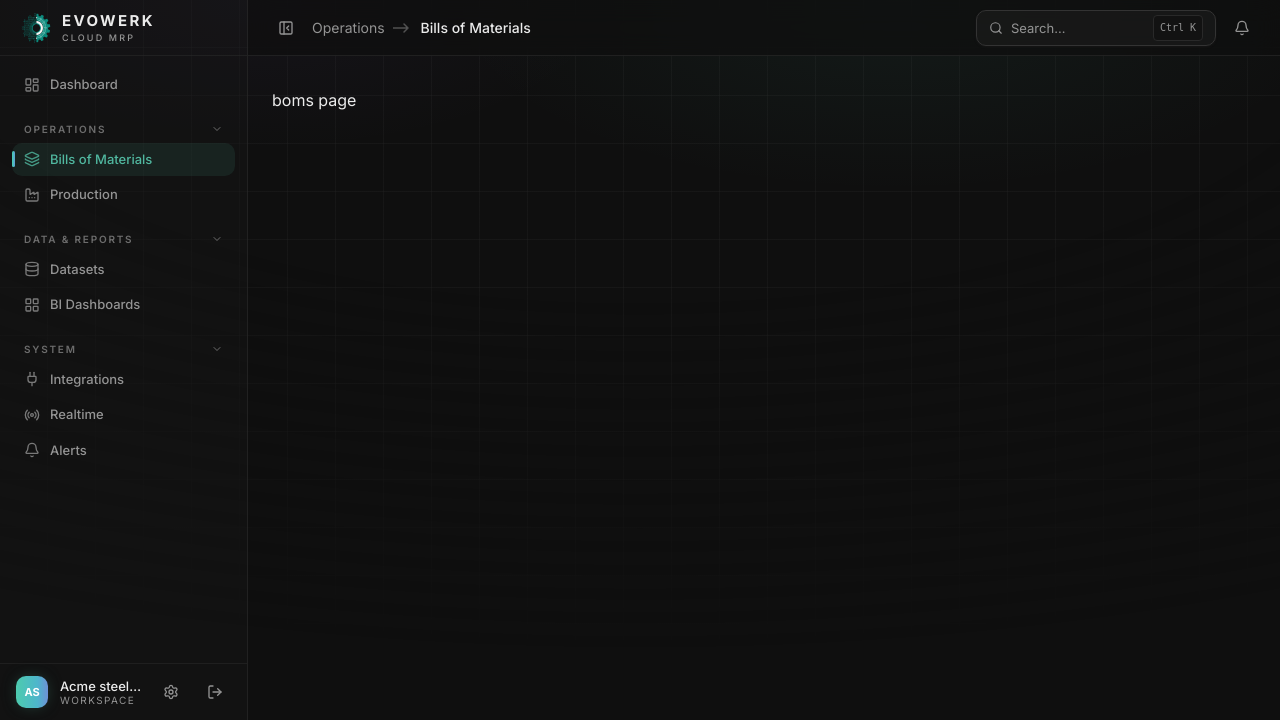
Test: AppShell › goes to account settings
Step 1. Click the button named "Account settings" → {"x": 171, "y": 692}, box [155,676,187,708]
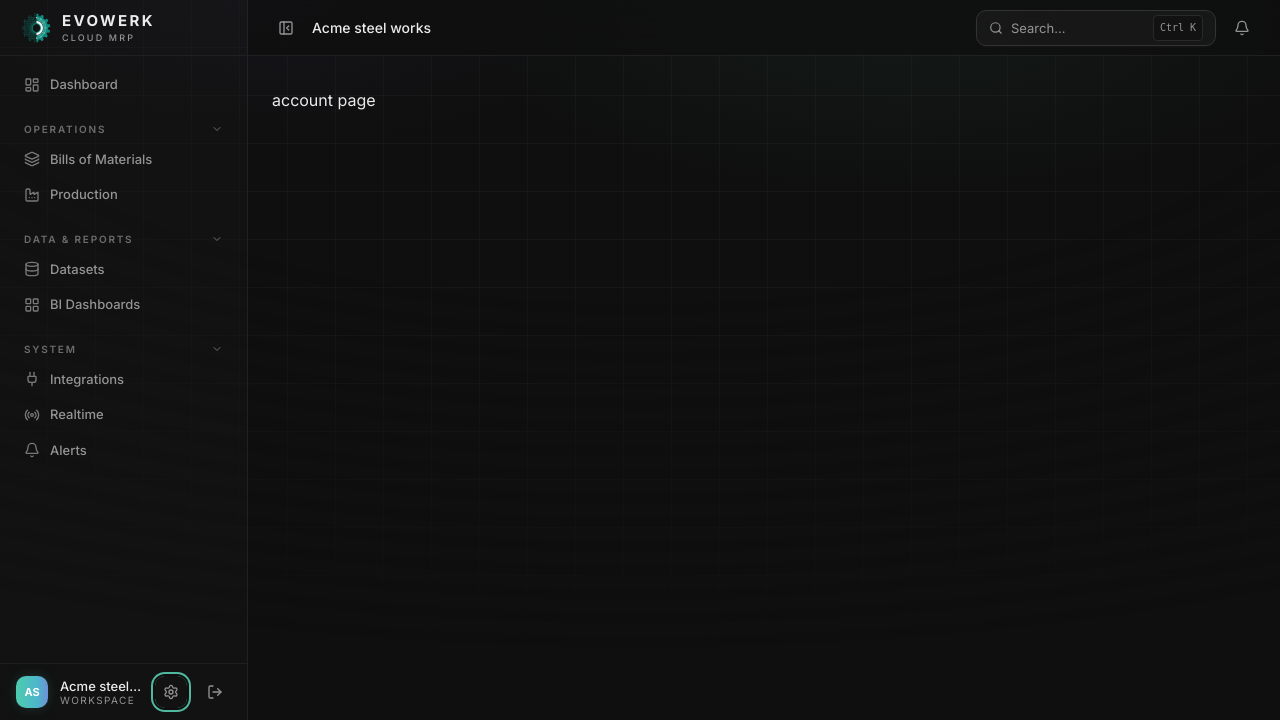
Now the text "account page" is shown, box [272,90,376,110]
